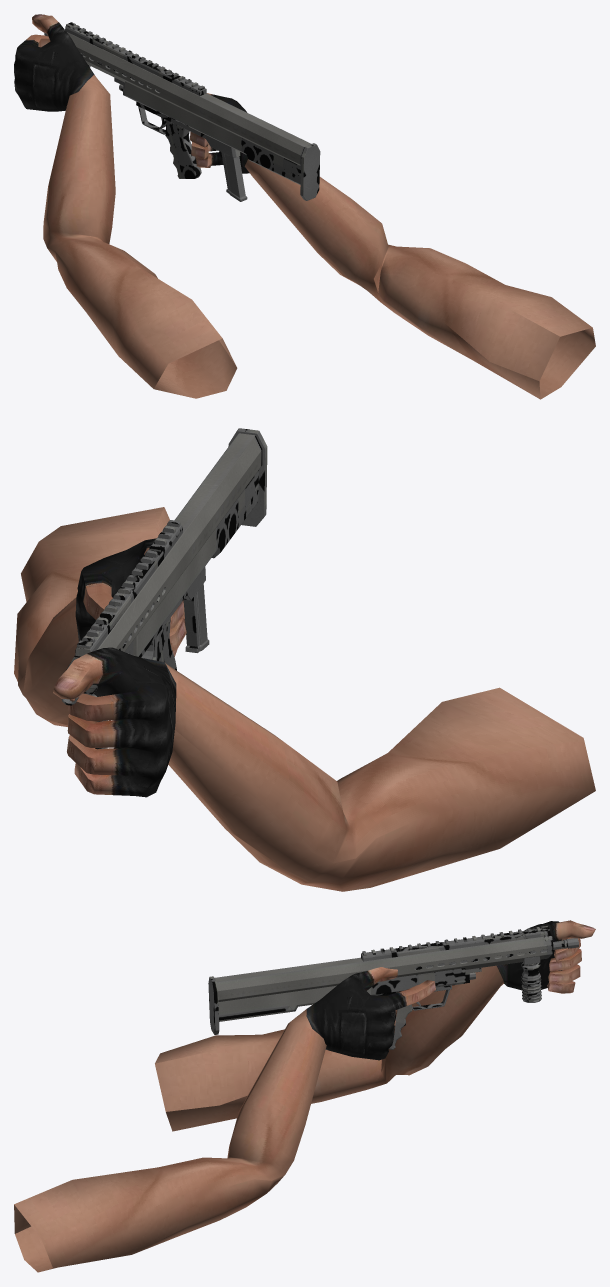
Rendered from gun_p90.glb.
3 views of the same model, one above another, from view 1: azimuth 30°, elevation 25°; view 2: azimuth 150°, elevation 25°; view 3: azimuth 270°, elevation 25° (orthographic). The views are drawn at different scales.
Visible parts, largest first — view 1: body_ARMS, body_QUATP; view 2: body_ARMS, body_QUATP; view 3: body_ARMS, body_QUATP.
Boxes of the visible parts, x1,y1,x2,y2 form: body_ARMS: (14, 14, 595, 399); body_QUATP: (44, 22, 320, 201); body_ARMS: (14, 507, 595, 891); body_QUATP: (61, 428, 267, 749); body_ARMS: (14, 920, 595, 1272); body_QUATP: (208, 926, 578, 1049).
Bounding box in the file's own units: 63.37 × 36.65 × 83.12.
Materials: 2 (2 with a texture image).
